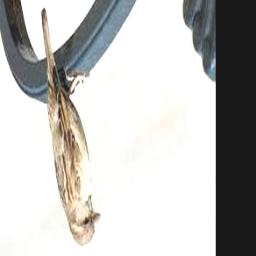Sparrow: (40, 8, 100, 247)
